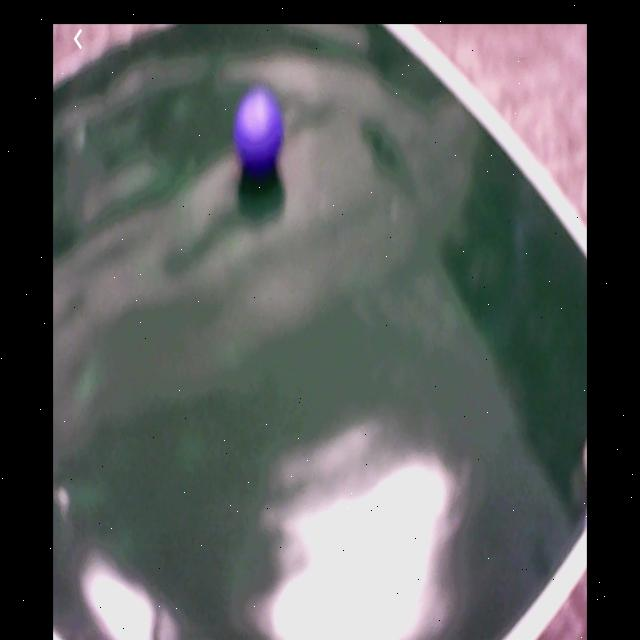ball: (233, 92, 283, 161)
